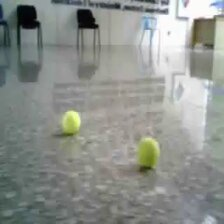tennis: (137, 136, 159, 167), (62, 112, 81, 132)
